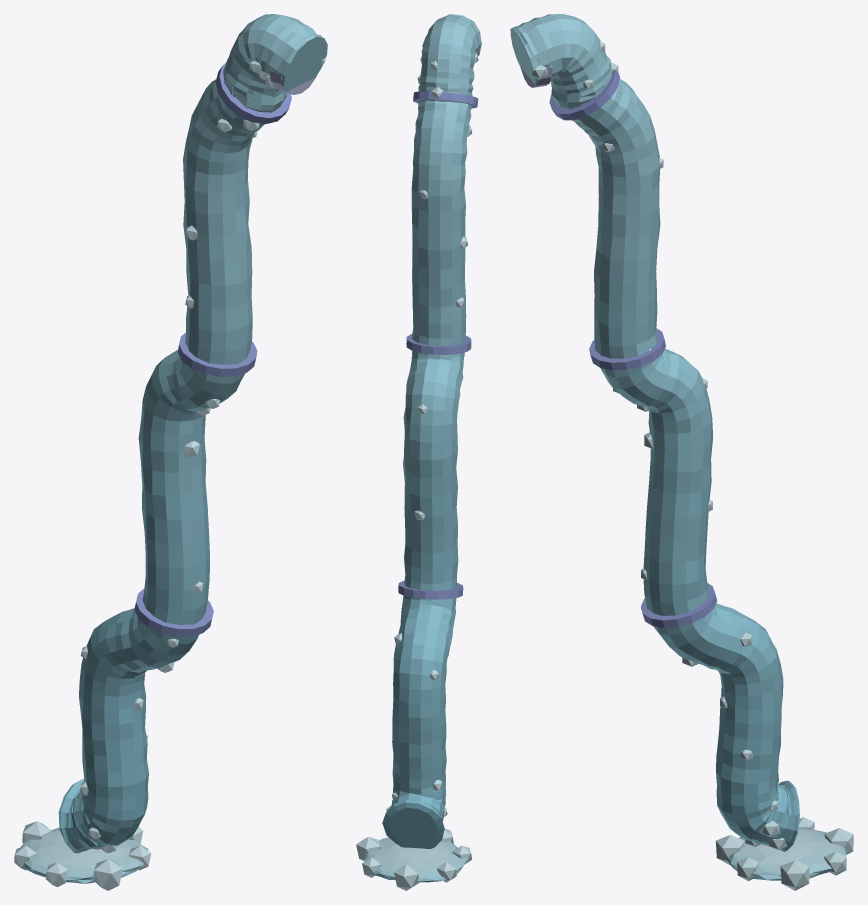
Rendered from goo_drop_tube_goo_4@crystal.fbx.
3 renders of one model, left to right at view 1: azimuth 30°, elevation 25°; view 2: azimuth 150°, elevation 25°; view 3: azimuth 270°, elevation 25°, orthographic. The views are drawn at different scales.
Parts seen in each view (by area): view 1: goo_drop_tube_goo_4; view 2: goo_drop_tube_goo_4; view 3: goo_drop_tube_goo_4.
Part boxes in pixels (box(x1,y1,x2,y2)): goo_drop_tube_goo_4: box(14, 14, 327, 890); goo_drop_tube_goo_4: box(356, 14, 481, 890); goo_drop_tube_goo_4: box(510, 14, 853, 890).
Bounding box in the file's own units: 10.64 × 53.69 × 18.84.
